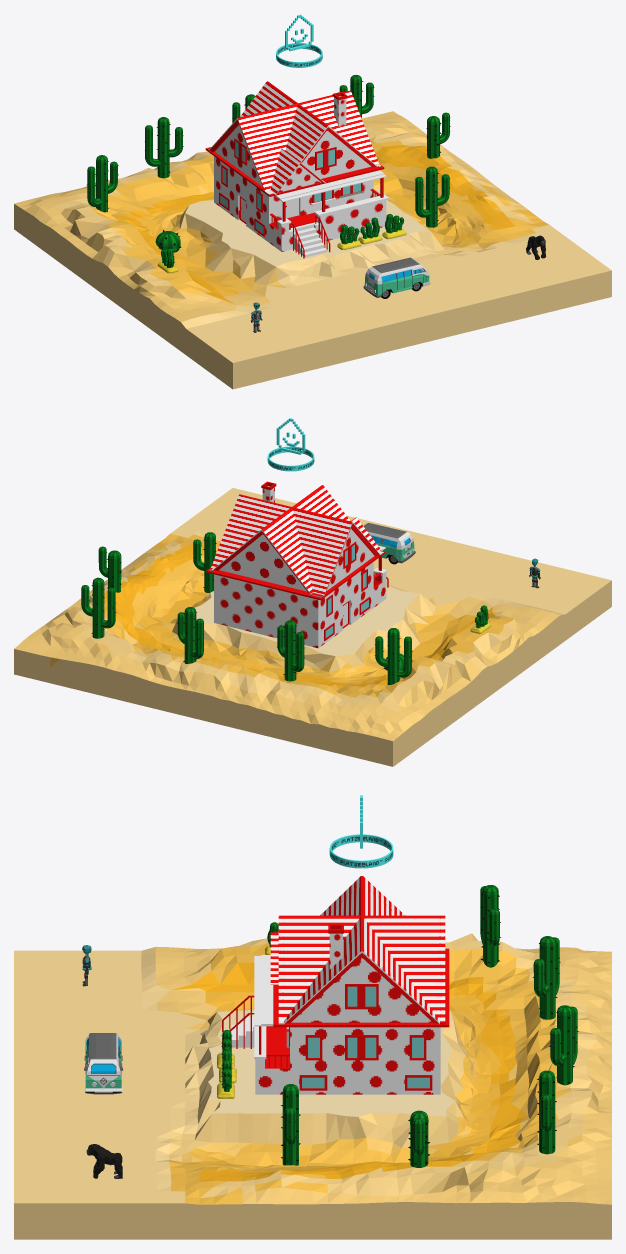
The picture shows the model from 3 angles, top to bottom: view 1: azimuth 30°, elevation 25°; view 2: azimuth 150°, elevation 25°; view 3: azimuth 270°, elevation 25°; orthographic projection. The views are drawn at different scales.
Parts seen in each view (by area): view 1: Cube.001, Cube.196, VEHICLES_VAN, Cylinder.044, Cylinder.037, Cylinder.045, TYPE_PREMIUM, Cylinder.038, Cylinder.042; view 2: Cube.001, Cube.196, Cylinder.042, Cylinder.045, Cylinder.044, VEHICLES_VAN, Cylinder.043, TYPE_PREMIUM, Cylinder.037, Cylinder.038; view 3: Cube.001, Cube.196, VEHICLES_VAN, Cylinder.044, Cylinder.043, Cylinder.045, Cylinder.042, Cylinder.037, TYPE_PREMIUM, Cylinder.038, ANIMAL_GORILA.
Part boxes in pixels (x1,y1,x2,y2): Cube.001: (14, 111, 611, 389); Cube.196: (205, 81, 388, 258); VEHICLES_VAN: (363, 257, 430, 298); Cylinder.044: (145, 117, 183, 178); Cylinder.037: (415, 166, 449, 227); Cylinder.045: (87, 155, 118, 212); TYPE_PREMIUM: (276, 14, 322, 67); Cylinder.038: (426, 112, 450, 158); Cylinder.042: (339, 75, 374, 118); Cube.001: (14, 488, 611, 766); Cube.196: (206, 481, 388, 648); Cylinder.042: (81, 577, 116, 638); Cylinder.045: (374, 628, 412, 684); Cylinder.044: (277, 620, 304, 681); VEHICLES_VAN: (363, 523, 415, 564); Cylinder.043: (177, 607, 203, 663); TYPE_PREMIUM: (267, 418, 314, 471); Cylinder.037: (193, 532, 220, 592); Cylinder.038: (98, 546, 121, 592); Cube.001: (14, 933, 611, 1239); Cube.196: (222, 876, 449, 1094); VEHICLES_VAN: (84, 1033, 122, 1094); Cylinder.044: (533, 936, 560, 1019); Cylinder.043: (549, 1005, 578, 1085); Cylinder.045: (480, 885, 500, 967); Cylinder.042: (537, 1070, 556, 1154); Cylinder.037: (281, 1084, 300, 1165); TYPE_PREMIUM: (329, 795, 393, 868); Cylinder.038: (408, 1110, 429, 1167); ANIMAL_GORILA: (86, 1144, 122, 1178).
Size of the model in its own units: 4002 by 2538 by 4001.
32 materials, 4 textured.
